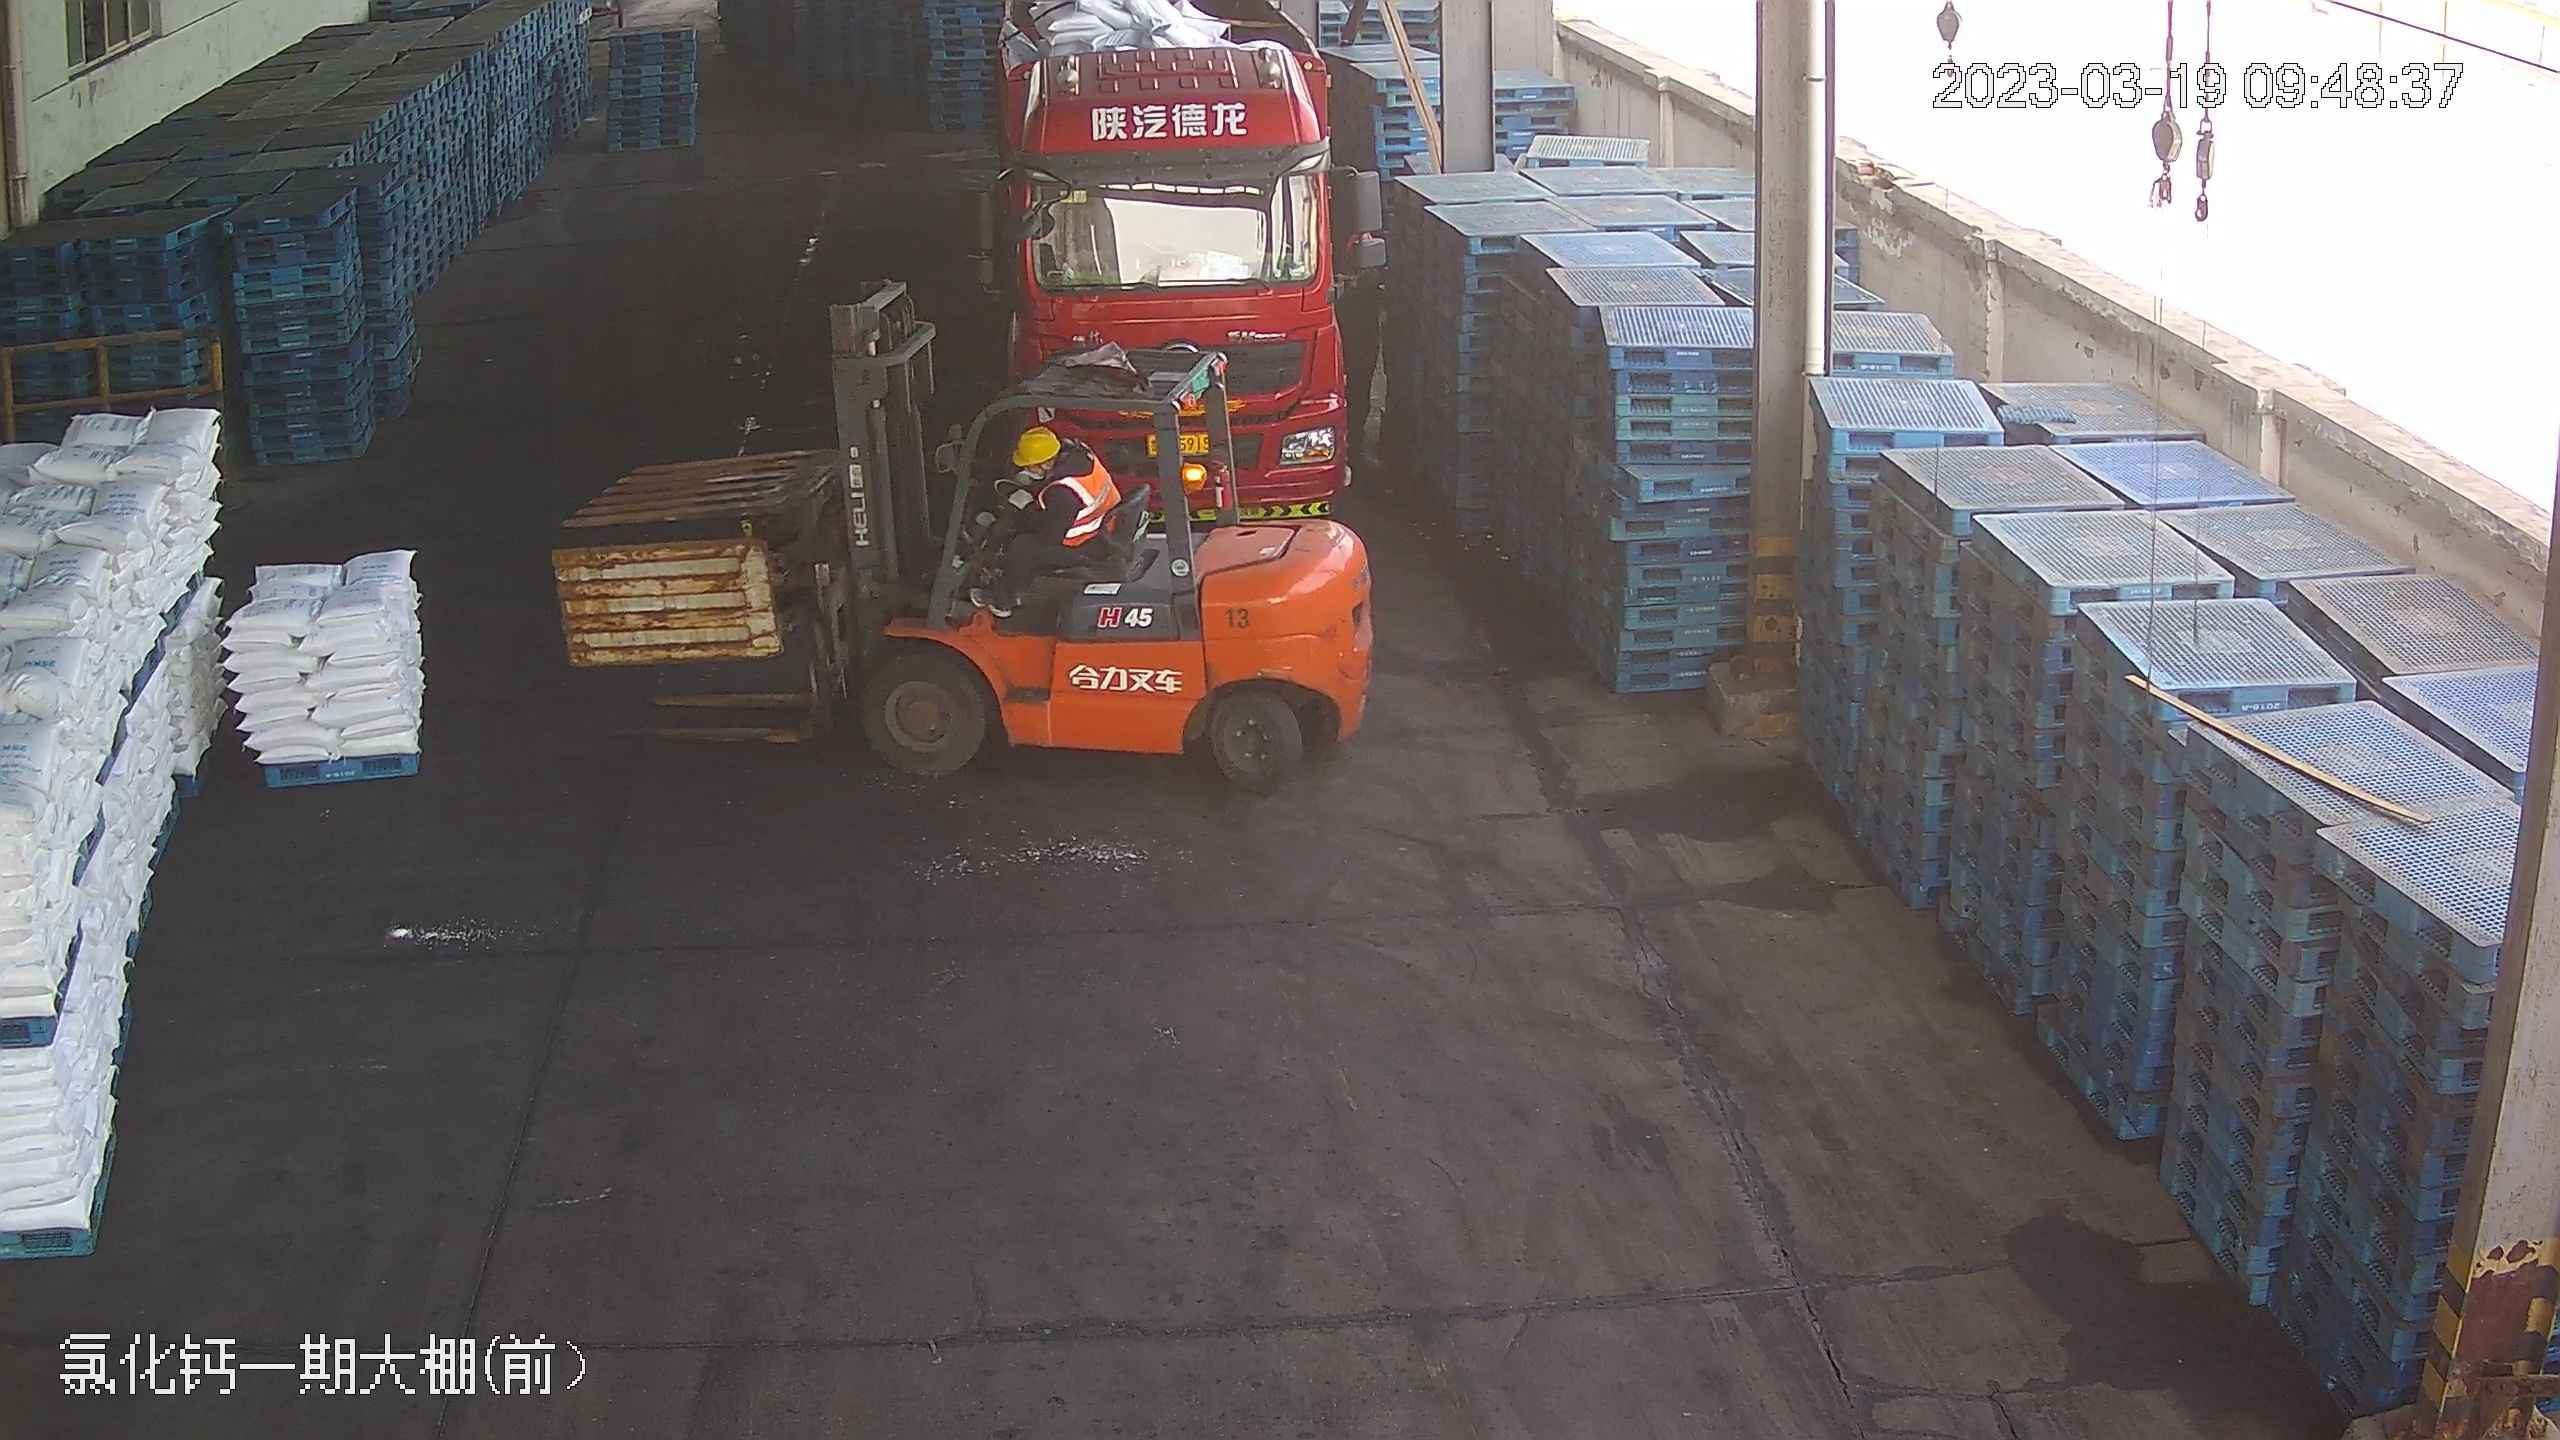head: (999, 427, 1101, 519)
helmet: (1013, 425, 1060, 466)
people: (965, 423, 1112, 616)
truck: (974, 1, 1354, 473)
